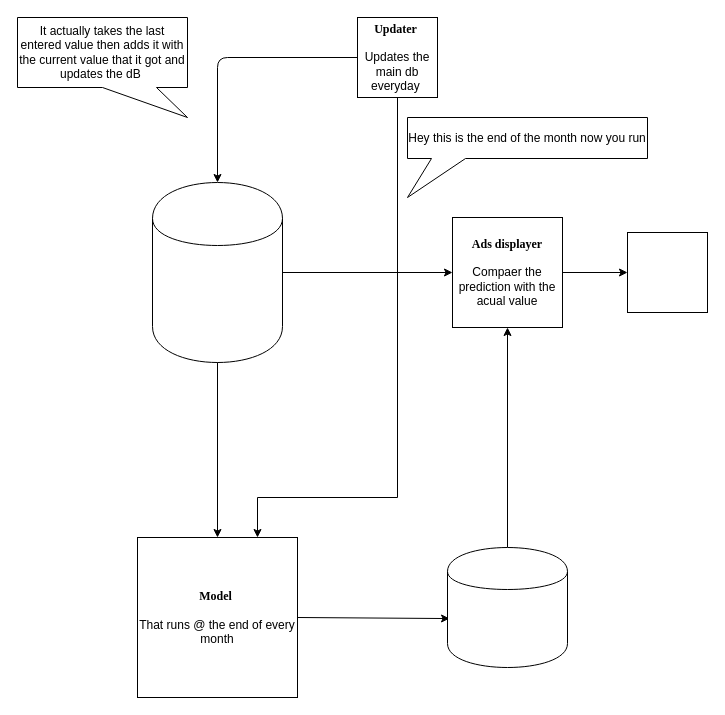
Some shapes in this 725 by 715 pixel diagram are drawn without their labels. Here are the shapes that lost their labels. From the top down, the centre of each, then its label:
At point 217,272: "Main db ex: 31/01/2020 5400 29/02/2020 5200 12/03/2020 1600".
At point 667,272: "Picture".
At point 507,607: "Prediction ex: 31/03/2020 5300".
